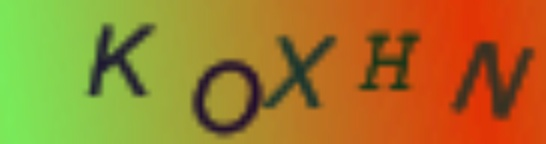H: (357, 29, 425, 92)
K: (79, 18, 163, 102)
N: (447, 38, 540, 123)
O: (185, 56, 266, 139)
X: (264, 31, 342, 114)
